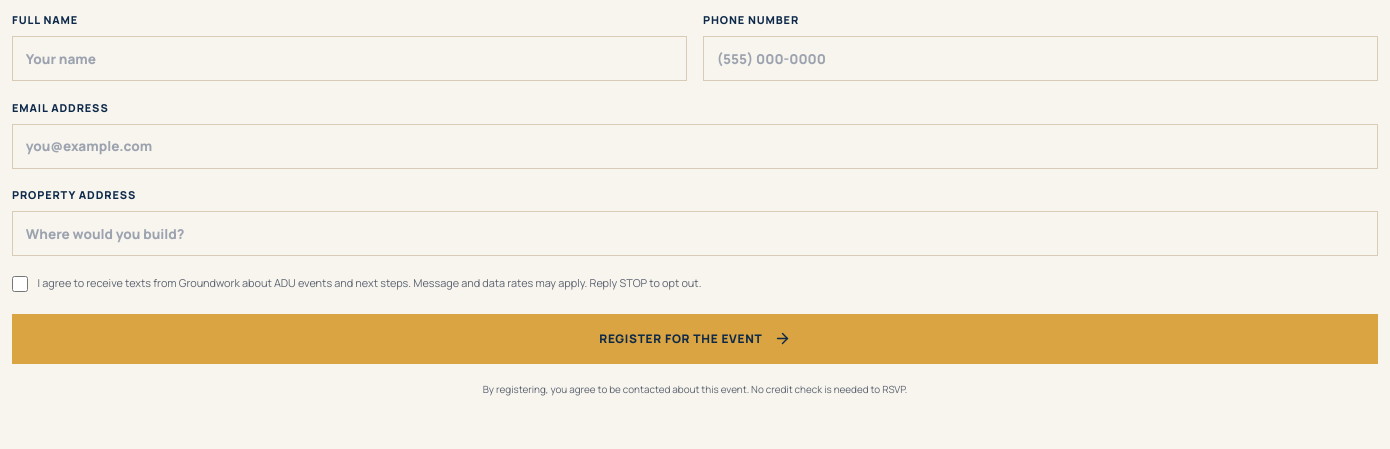
Scenario: LeadForm › event RSVP has no soft-pull checkbox and sends mode=event + event_id
This screenshot has width=1390, height=449.
Expected: the checkbox named "I agree to receive texts from Groundwork about ADU events and next steps. Message and data rates may apply. Reply STOP t" is not checked, [12, 276, 28, 292]
Type "Ana Lopez" into the field labelled "Full name". click: (350, 59)
box: [12, 36, 687, 81]
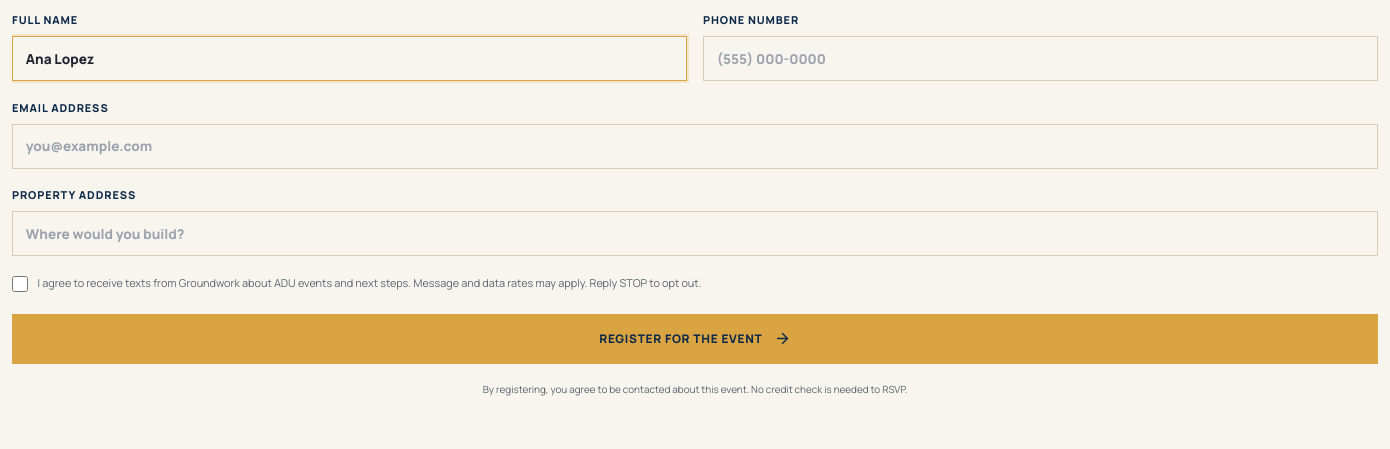
Type "5551234567" into the field labelled "Phone number". click: (1040, 59)
box: [703, 36, 1378, 81]
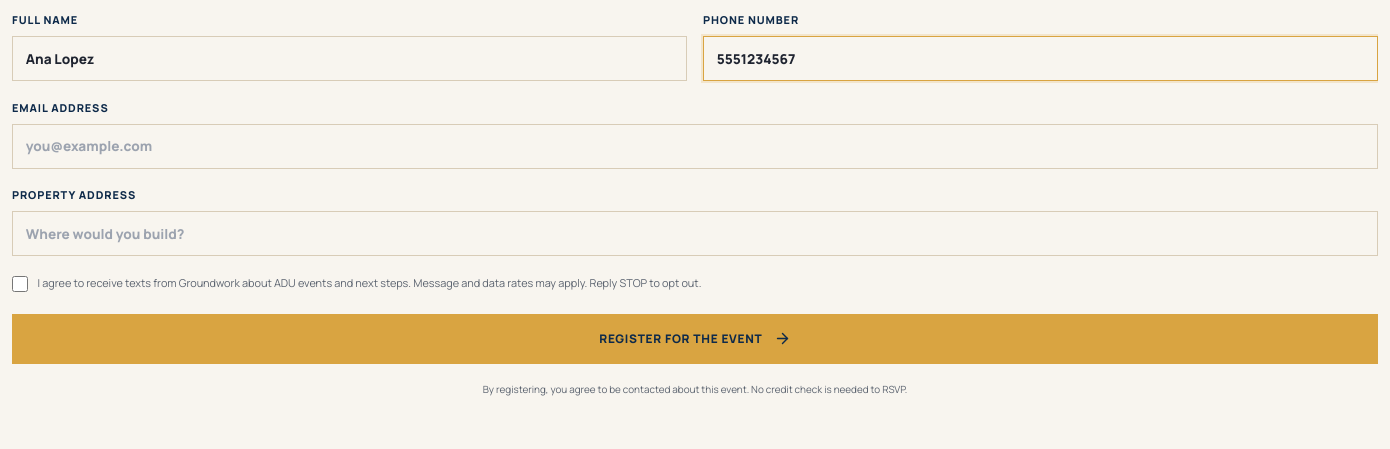
Type "ana@example.com" into the field labelled "Email address". click: (695, 146)
box: [12, 124, 1378, 169]
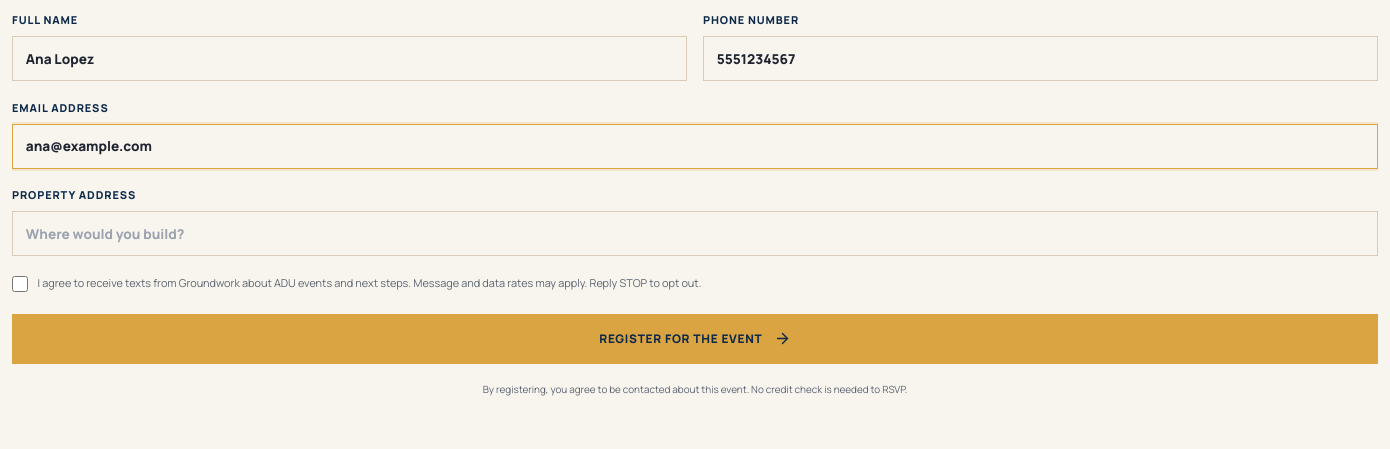
Type "12 Main St, Fontana" into the field labelled "Property address". click: (695, 234)
box: [12, 211, 1378, 256]
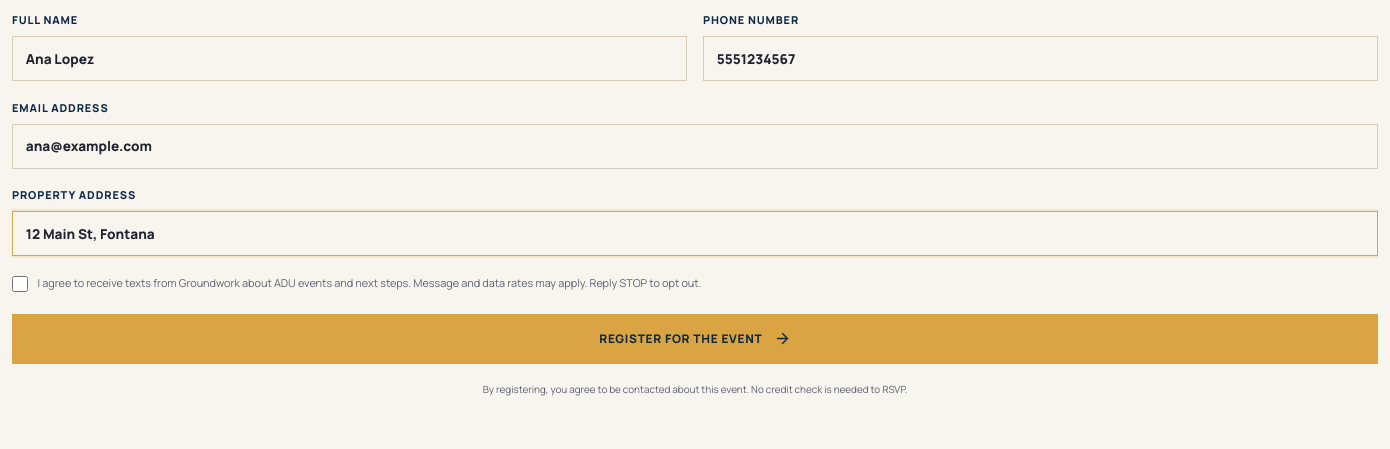
Click the button. click: (695, 339)
box: [12, 314, 1378, 364]
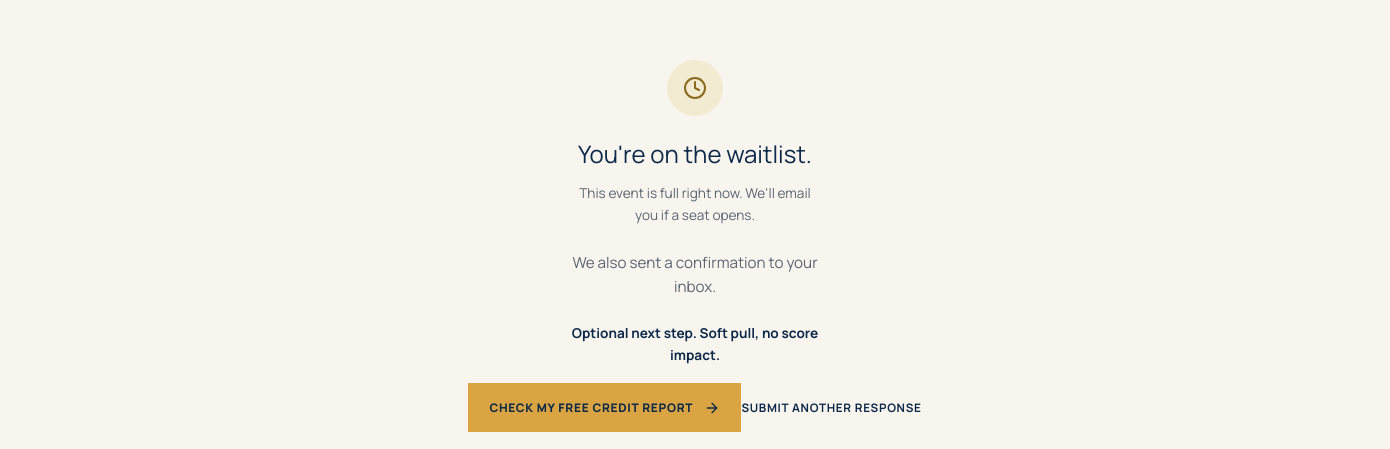
Now the heading "You're on the waitlist." is shown, box [578, 137, 812, 170]
